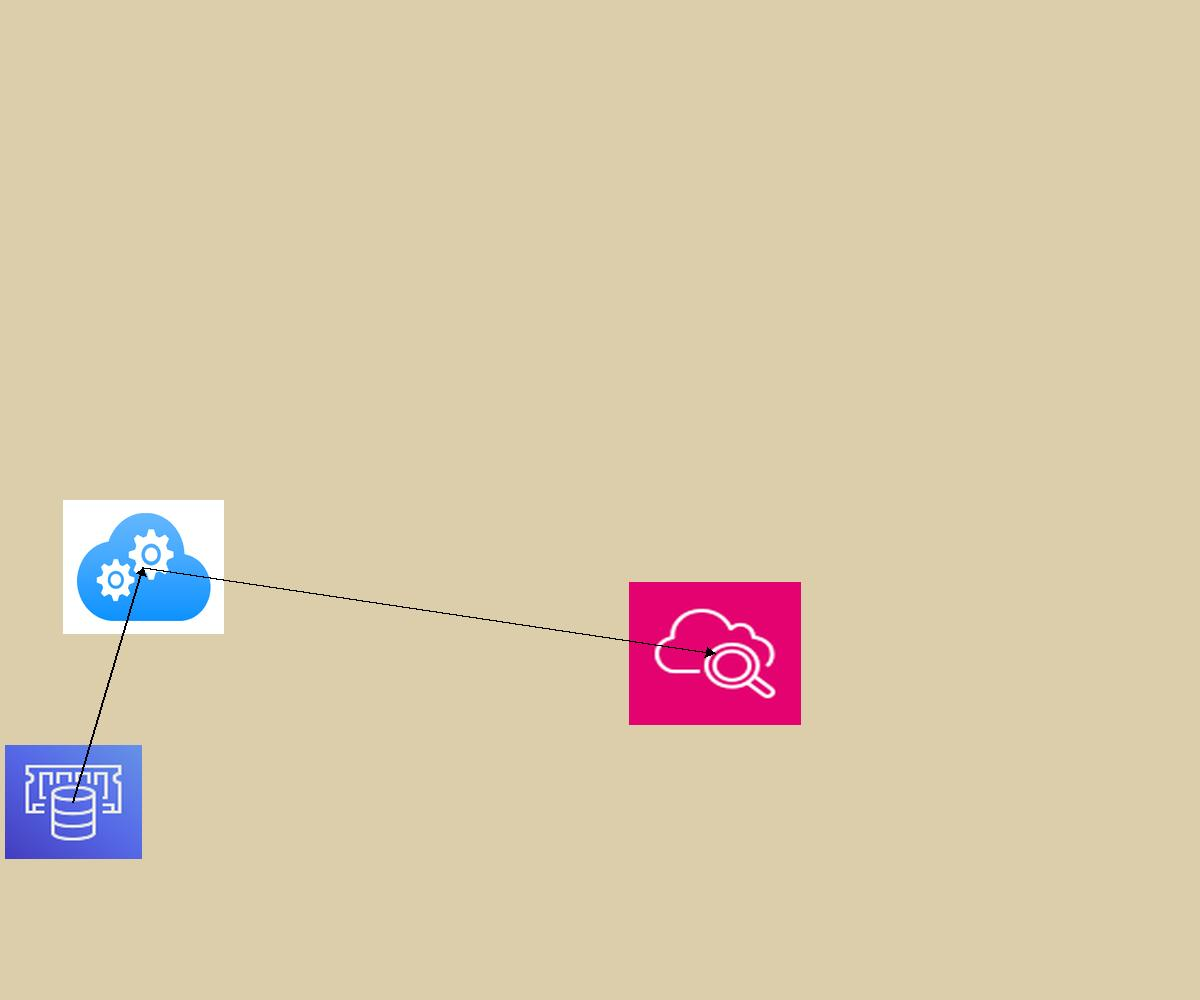AWS-CloudWatch: (629, 582, 801, 725)
AWS-ElastiCache: (5, 745, 142, 859)
Azure_cloud_services: (63, 500, 224, 634)
